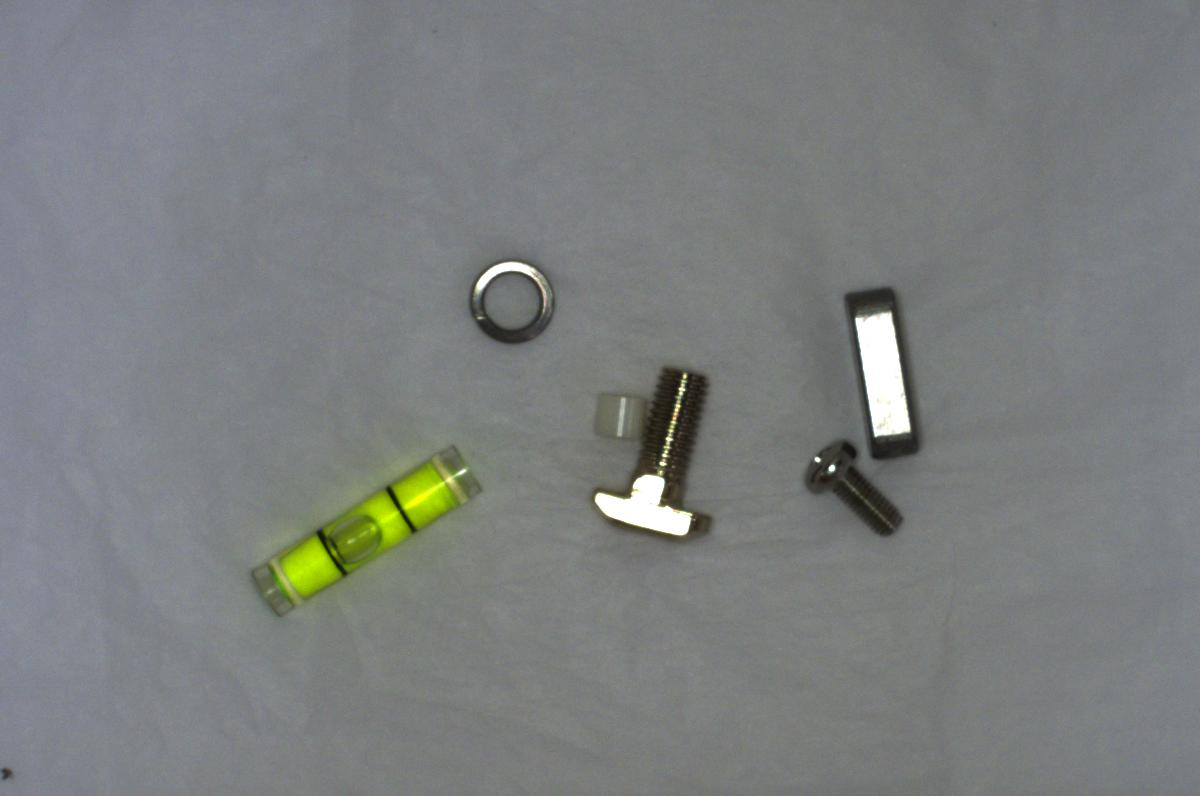Horizontal bubble: (242, 436, 480, 626)
Keybar: (842, 271, 923, 462)
Plastic cushion pillar: (583, 378, 648, 441)
Round head screw: (800, 432, 906, 546)
Spring washer: (462, 250, 567, 354)
T-shaped screw: (592, 359, 712, 550)
